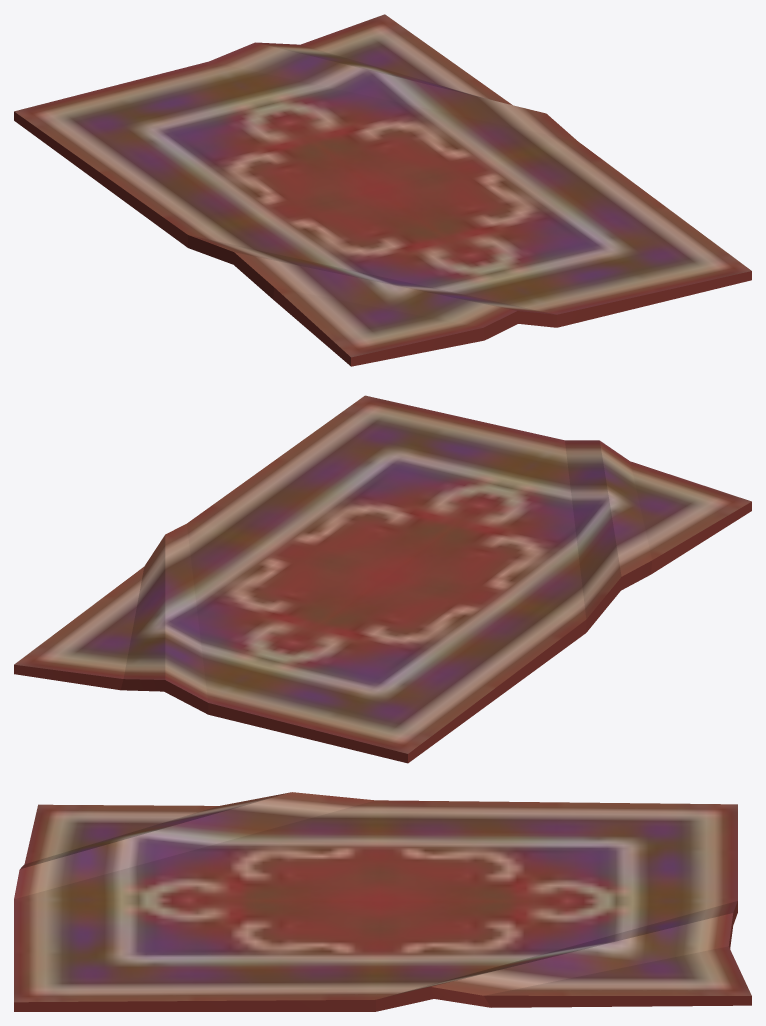
The model's file is rug2.glb.
3 renders of one model, top to bottom at view 1: azimuth 30°, elevation 25°; view 2: azimuth 150°, elevation 25°; view 3: azimuth 270°, elevation 25°, orthographic. The views are drawn at different scales.
Parts seen in each view (by area): view 1: SM_Prop_Rug_01; view 2: SM_Prop_Rug_01; view 3: SM_Prop_Rug_01.
Boxes of the visible parts, <box> form: SM_Prop_Rug_01: <box>14,14,751,366</box>; SM_Prop_Rug_01: <box>14,395,751,763</box>; SM_Prop_Rug_01: <box>14,792,751,1011</box>.
Size of the model in its own units: 1.48 by 0.0908 by 2.33.
Materials: 1 (1 with a texture image).
